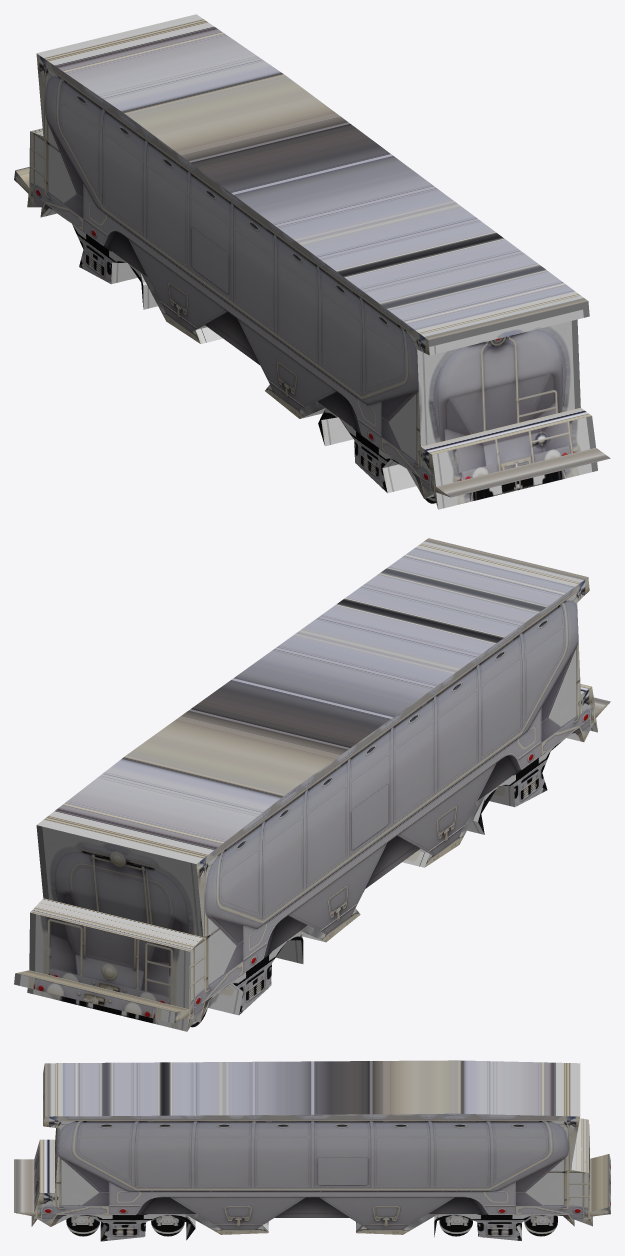
The model's file is covered_hopper.glb.
3 renders of one model, top to bottom at view 1: azimuth 30°, elevation 25°; view 2: azimuth 150°, elevation 25°; view 3: azimuth 270°, elevation 25°, orthographic. The views are drawn at different scales.
Parts seen in each view (by area): view 1: covered_hopper; view 2: covered_hopper; view 3: covered_hopper, wheel_FR, wheel_BR, wheel_M1R, wheel_M2R.
Part boxes in pixels (x1=…): covered_hopper: x1=14, y1=14, x2=610, y2=509; covered_hopper: x1=14, y1=538, x2=610, y2=1031; covered_hopper: x1=14, y1=1060, x2=610, y2=1241; wheel_FR: x1=524, y1=1215, x2=557, y2=1236; wheel_BR: x1=66, y1=1215, x2=100, y2=1236; wheel_M1R: x1=439, y1=1214, x2=472, y2=1236; wheel_M2R: x1=151, y1=1214, x2=184, y2=1236.
Size of the model in its own units: 3.8 by 4.39 by 17.98.
Materials: 3 (1 with a texture image).
